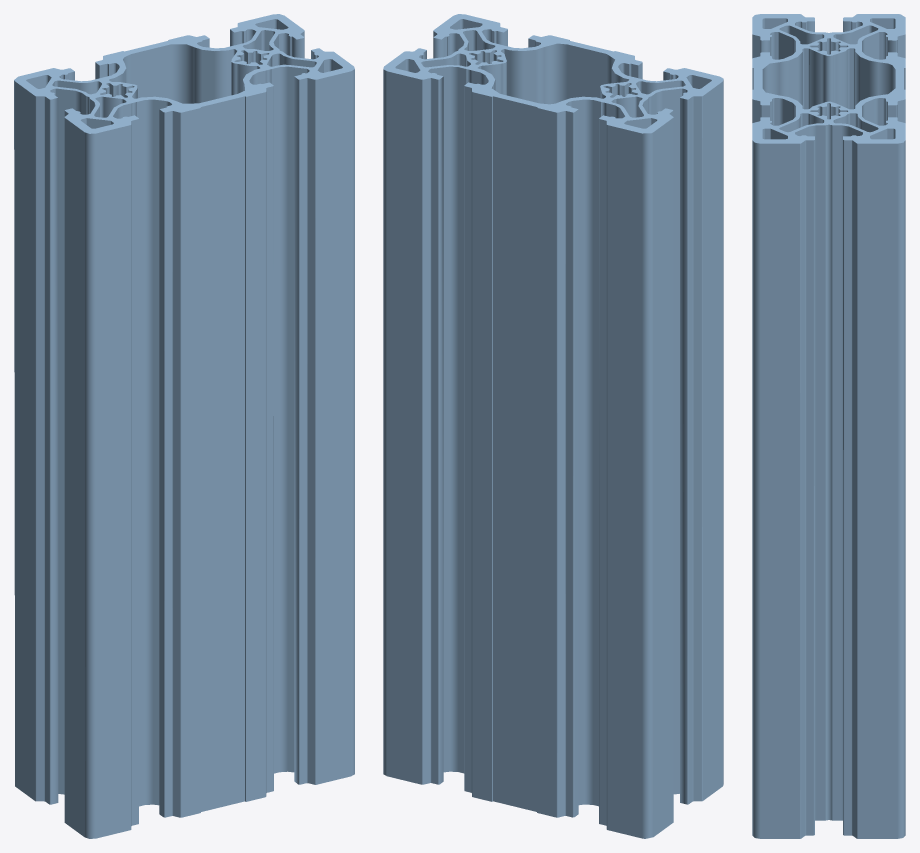
Rendered from ST_EXT_002_0225.gltf.
3 renders of one model, left to right at view 1: azimuth 30°, elevation 25°; view 2: azimuth 150°, elevation 25°; view 3: azimuth 270°, elevation 25°, orthographic.
Bounding box in the file's own units: 0.09 × 0.225 × 0.045.
